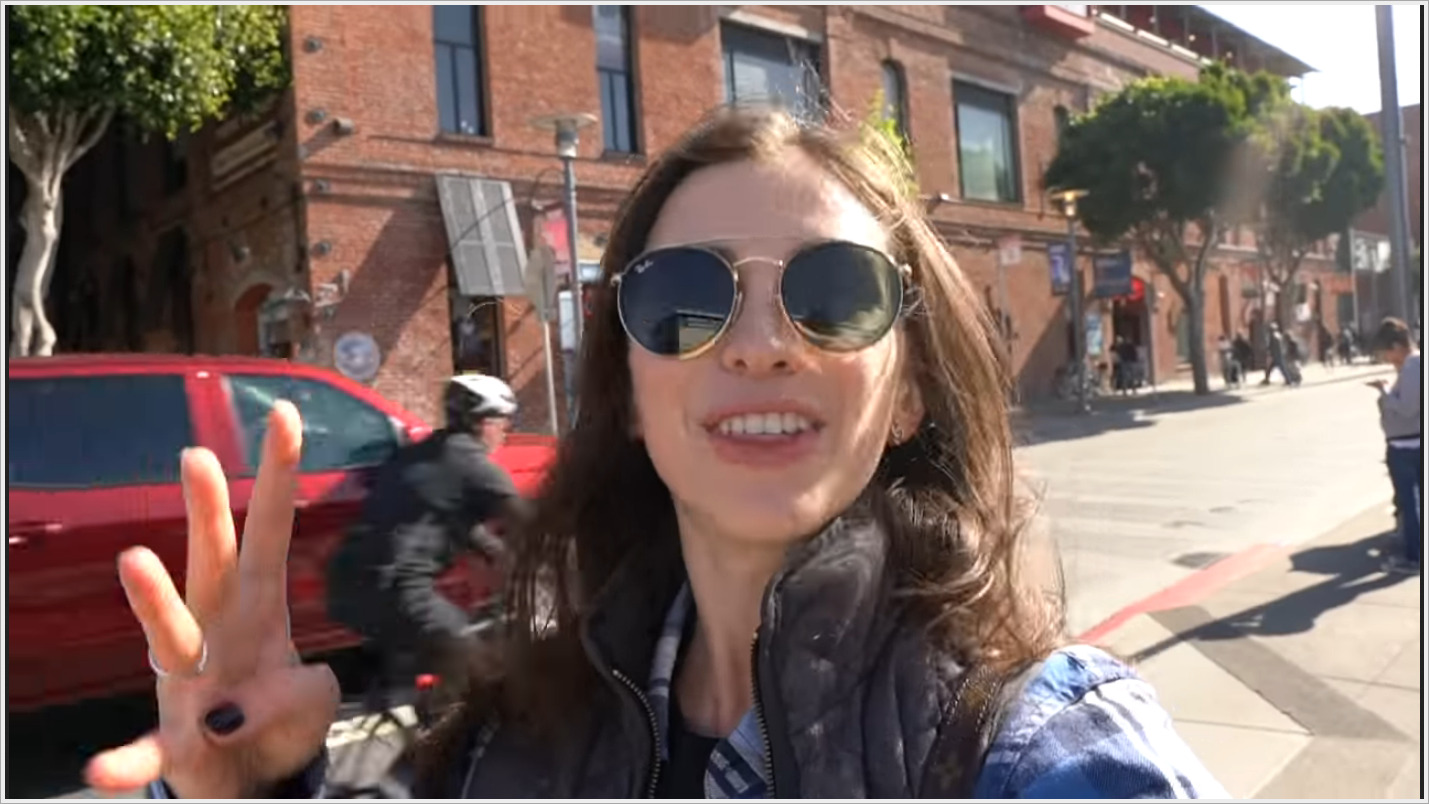hand: (109, 383, 347, 792)
